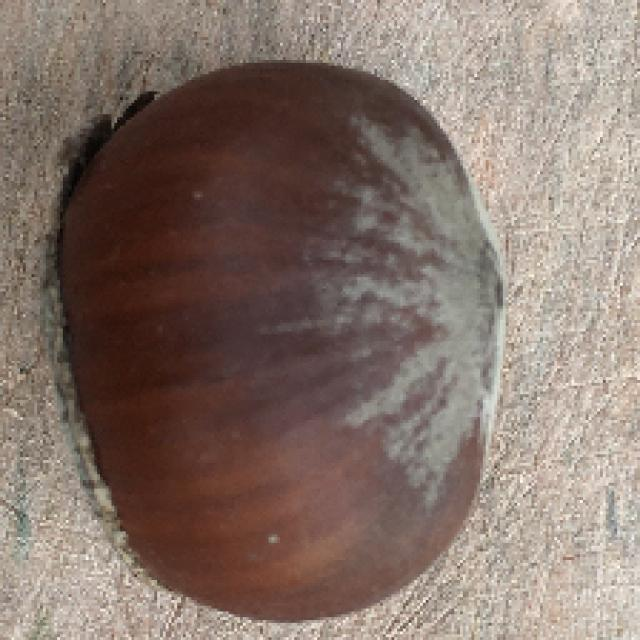damagedHazelnut: (25, 45, 526, 624)
